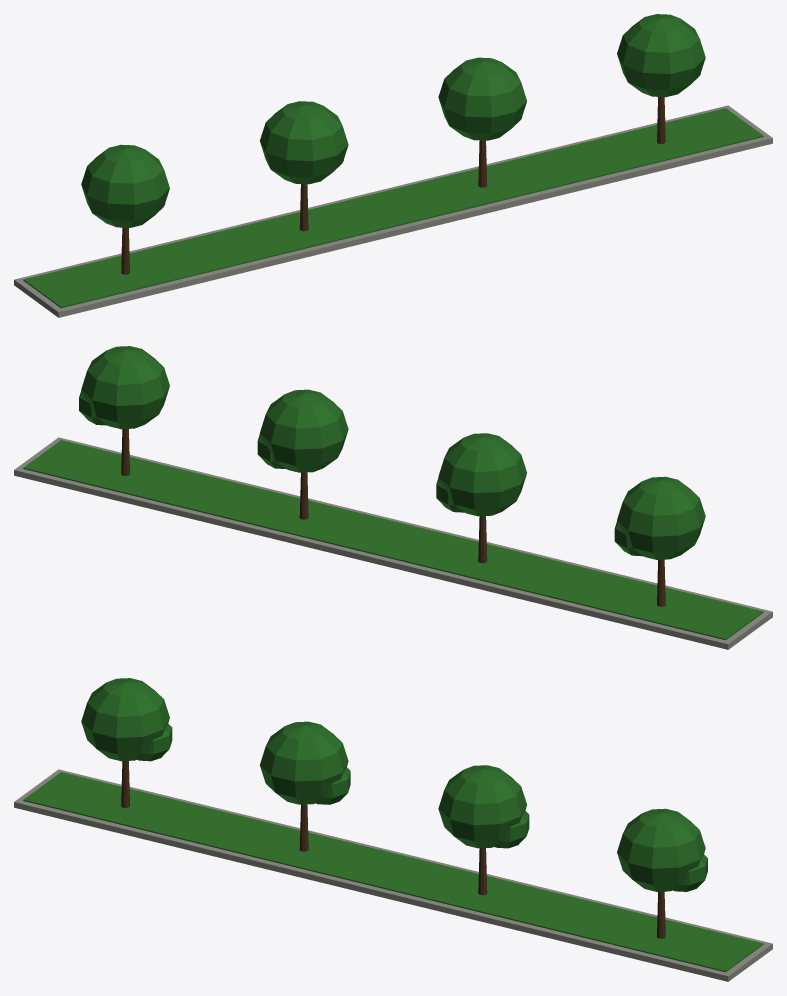
Rendered from CamellonArbolado.obj.
3 renders of one model, top to bottom at view 1: azimuth 30°, elevation 25°; view 2: azimuth 150°, elevation 25°; view 3: azimuth 330°, elevation 25°, orthographic.
Visible parts, largest first — view 1: CamellonArbolado; view 2: CamellonArbolado; view 3: CamellonArbolado.
Boxes of the visible parts, bbox=[...] form: CamellonArbolado: bbox=[14, 14, 772, 317]; CamellonArbolado: bbox=[14, 346, 772, 649]; CamellonArbolado: bbox=[14, 678, 772, 981].
Bounding box in the file's own units: 24 × 4.2 × 2.6.
